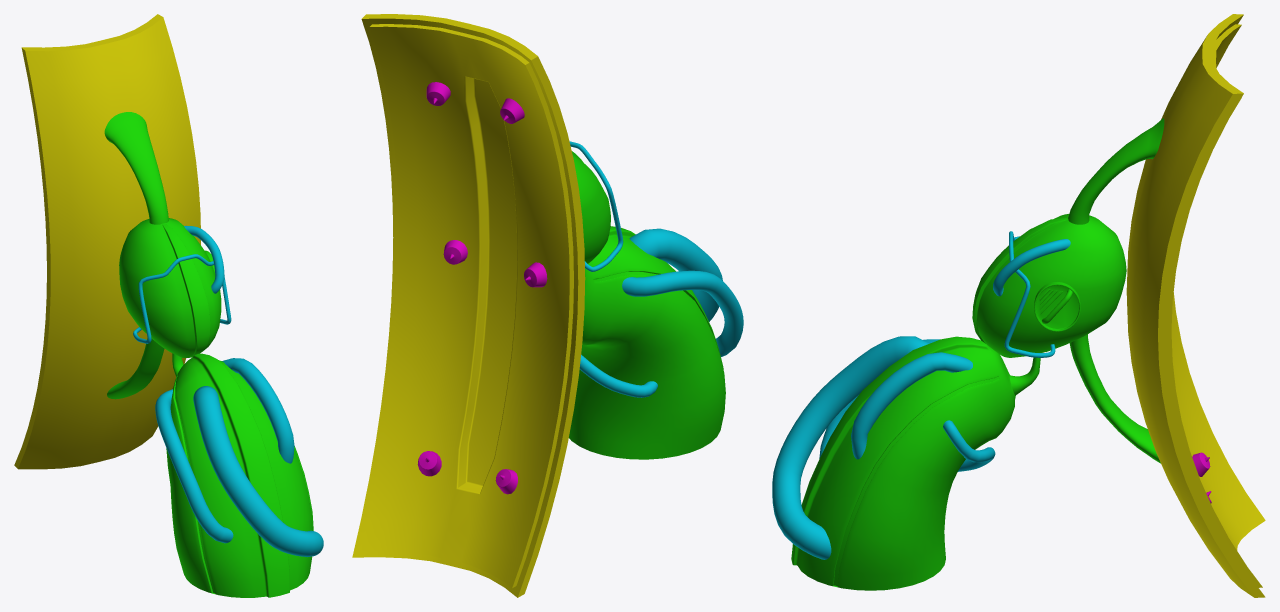
File: portal.fbx
The picture shows the model from 3 angles, left to right: view 1: azimuth 30°, elevation 25°; view 2: azimuth 150°, elevation 25°; view 3: azimuth 270°, elevation 25°; orthographic projection. The views are drawn at different scales.
Parts seen in each view (by area): view 1: Placa, Biceps, Tubo pequeño arriba; view 2: Placa, Biceps, Tubo pequeño arriba, Disparadores; view 3: Biceps, Placa, Tubo pequeño arriba.
Part boxes in pixels (x1,y1,x2,y2): Placa: [14, 14, 200, 469]; Biceps: [104, 112, 313, 597]; Tubo pequeño arriba: [133, 225, 323, 557]; Placa: [352, 14, 585, 597]; Biceps: [569, 151, 725, 459]; Tubo pequeño arriba: [569, 141, 743, 397]; Disparadores: [417, 82, 547, 494]; Biceps: [791, 118, 1164, 590]; Placa: [1126, 14, 1265, 597]; Tubo pequeño arriba: [772, 231, 1070, 559].
Size of the model in its own units: 111 by 300 by 265.
